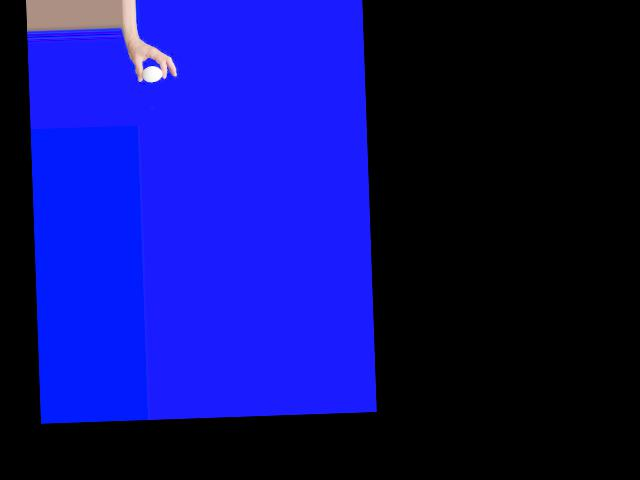egg: (141, 66, 162, 83)
